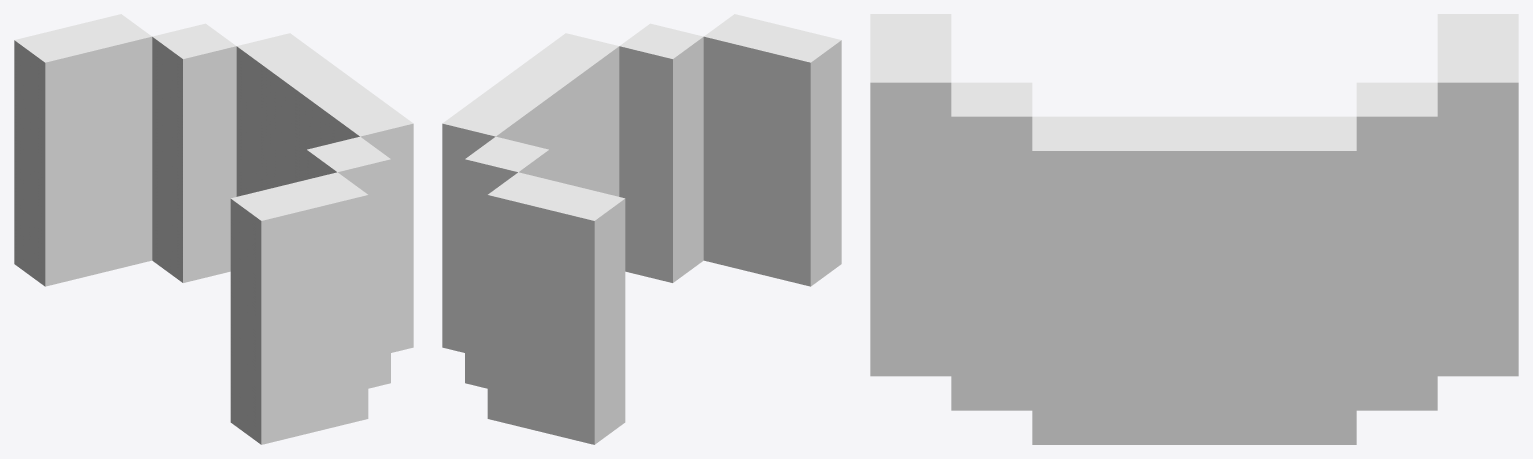
Rendered from tank v1.gltf.
3 views of the same model, side by side, from view 1: azimuth 30°, elevation 25°; view 2: azimuth 150°, elevation 25°; view 3: azimuth 270°, elevation 25° (orthographic). The views are drawn at different scales.
Visible parts, largest first — view 1: Layer.1; view 2: Layer.1; view 3: Layer.1.
Boxes of the visible parts, x1,y1,x2,y2 form: Layer.1: (14,14,413,444); Layer.1: (442,14,841,444); Layer.1: (870,14,1518,444).
Bounding box in the file's own units: 4 × 4 × 8.
Materials: 1 (1 with a texture image).
